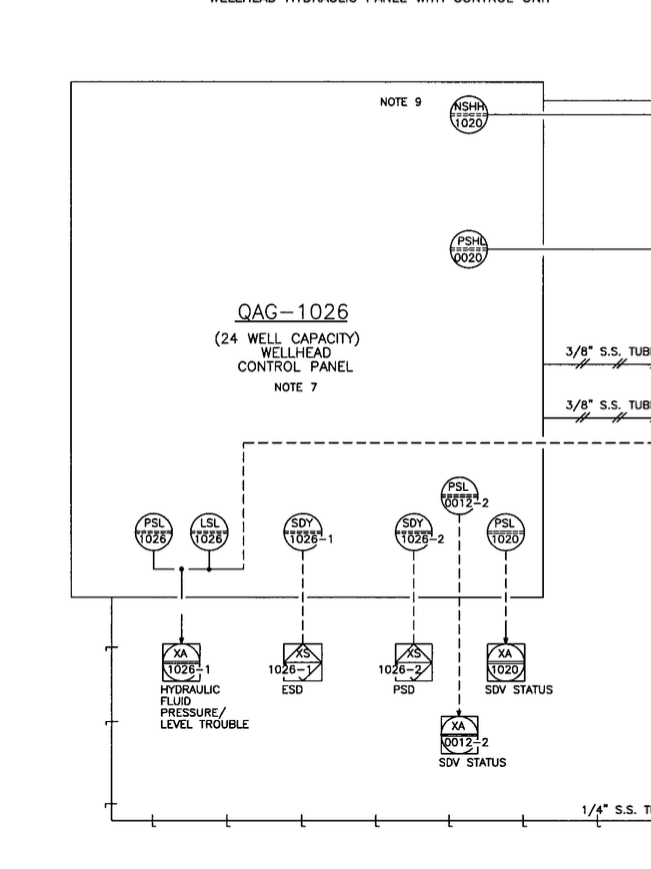Instrument: (447, 91, 496, 140), (445, 224, 493, 274), (127, 512, 179, 555), (484, 512, 529, 558), (187, 512, 232, 555)
Instrument-offset: (278, 510, 338, 554), (437, 473, 492, 513), (392, 510, 445, 551)
Instrument-square: (483, 635, 530, 684)
Instrument-square-offset: (264, 639, 327, 685), (376, 639, 437, 683), (158, 635, 211, 684), (436, 713, 493, 755)
